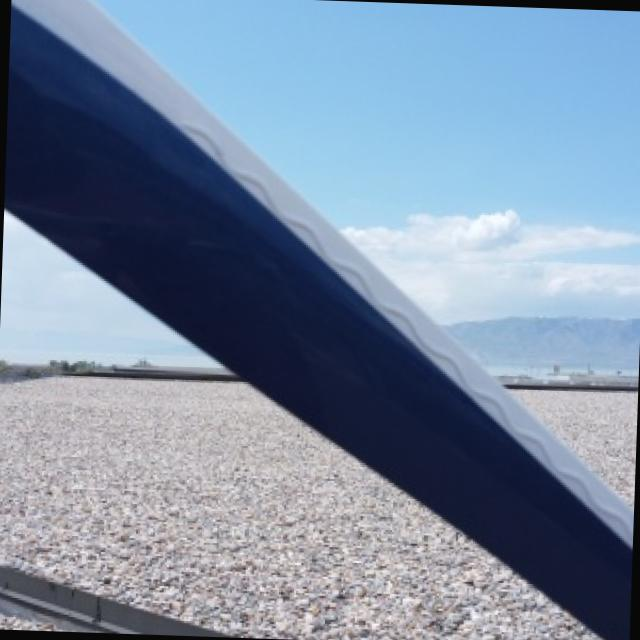healthy: (6, 0, 631, 640)
